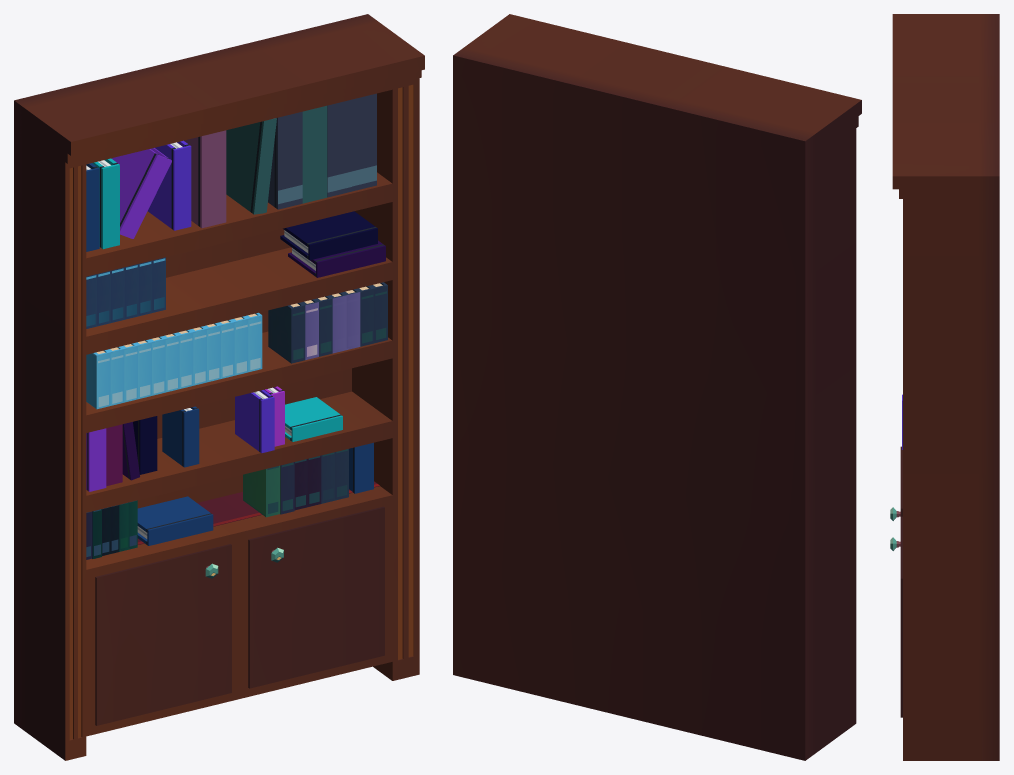
Rendered from TownOffice_Bookshelf02.fbx.
3 renders of one model, left to right at view 1: azimuth 30°, elevation 25°; view 2: azimuth 150°, elevation 25°; view 3: azimuth 270°, elevation 25°, orthographic. The views are drawn at different scales.
Parts seen in each view (by area): view 1: Cube.314; view 2: Cube.314; view 3: Cube.314.
Boxes of the visible parts, bbox=[...] form: Cube.314: bbox=[14, 14, 424, 760]; Cube.314: bbox=[453, 14, 861, 760]; Cube.314: bbox=[890, 14, 999, 760].
Bounding box in the file's own units: 126 × 211 × 35.78.
